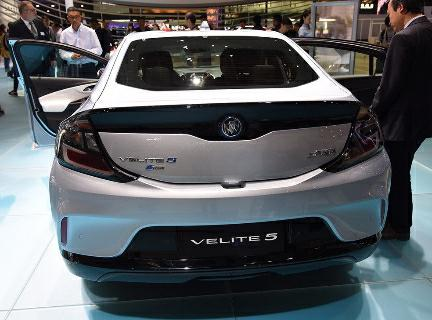别克-VELITE5: (43, 30, 395, 287)
